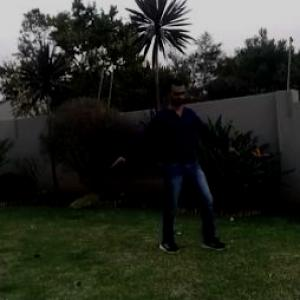land: (115, 87, 228, 231)
